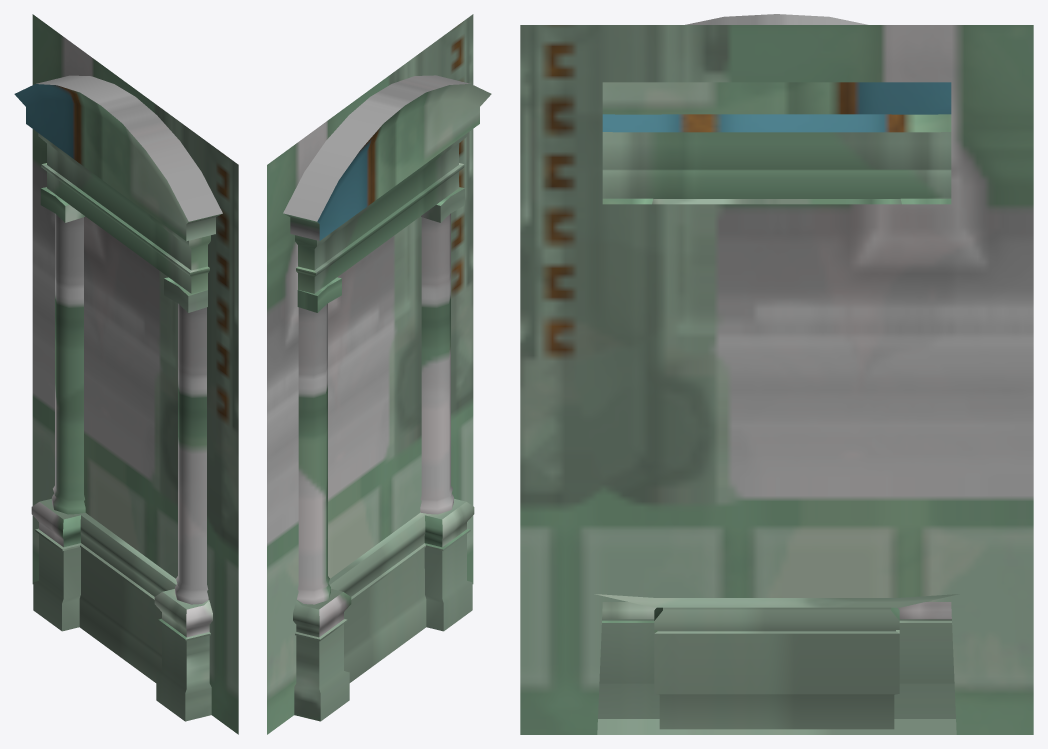
File: qVin_Buld1_F3WindowArc.fbx
The picture shows the model from 3 angles, left to right: view 1: azimuth 30°, elevation 25°; view 2: azimuth 150°, elevation 25°; view 3: azimuth 270°, elevation 25°; orthographic projection. The views are drawn at different scales.
Parts seen in each view (by area): view 1: qVin_Buld1_F3WindowArc; view 2: qVin_Buld1_F3WindowArc; view 3: qVin_Buld1_F3WindowArc.
Boxes of the visible parts, box(x1,y1,x2,y2) form: qVin_Buld1_F3WindowArc: box(14, 14, 238, 734); qVin_Buld1_F3WindowArc: box(267, 14, 491, 734); qVin_Buld1_F3WindowArc: box(520, 14, 1033, 734).
Size of the model in its own units: 48.11 by 458 by 300.
Materials: 1 (1 with a texture image).
